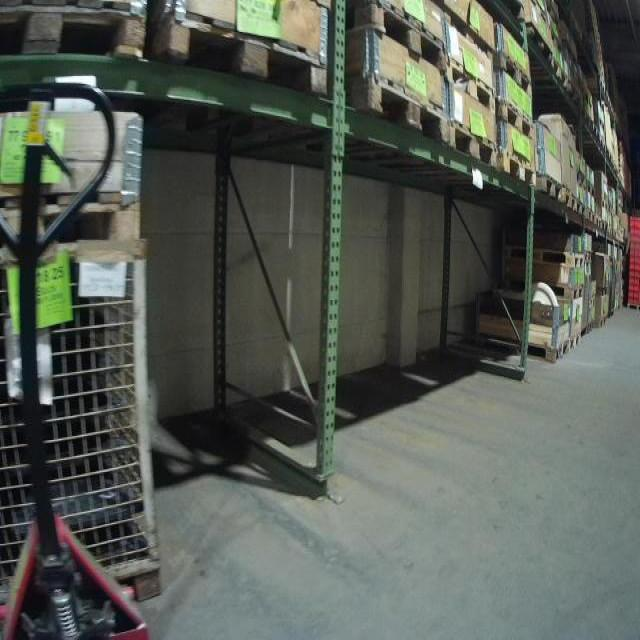pallet: (157, 0, 334, 100), (1, 193, 138, 275), (345, 67, 448, 153), (1, 3, 142, 56), (343, 0, 446, 71), (448, 0, 501, 71), (448, 119, 502, 181), (467, 334, 574, 364), (444, 70, 504, 119), (496, 91, 541, 142), (500, 42, 535, 105), (495, 144, 535, 197), (502, 248, 587, 271), (528, 18, 553, 83), (506, 281, 587, 299), (499, 0, 532, 39), (536, 170, 565, 211), (534, 2, 563, 28), (561, 75, 580, 114), (552, 53, 567, 92), (565, 184, 580, 219), (592, 313, 611, 332), (577, 169, 592, 191), (568, 331, 583, 349), (574, 205, 588, 219)
pallet_truck: (2, 62, 150, 635)
small_load_carrier: (628, 215, 640, 225), (629, 225, 640, 235), (627, 279, 640, 287), (627, 299, 640, 306), (627, 273, 640, 279), (628, 293, 640, 299), (628, 287, 640, 293), (630, 235, 640, 242), (631, 259, 639, 267), (630, 245, 638, 253), (631, 267, 640, 273), (630, 253, 639, 259), (630, 242, 638, 245)
stillage: (0, 229, 172, 627)
